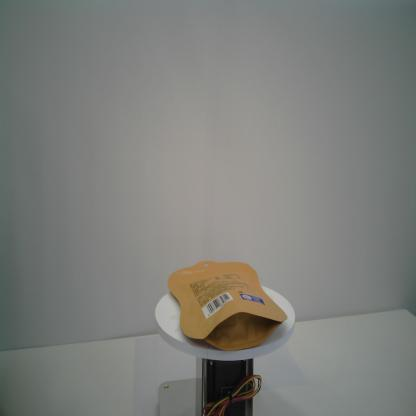Dried Fruit: (167, 260, 288, 352)
